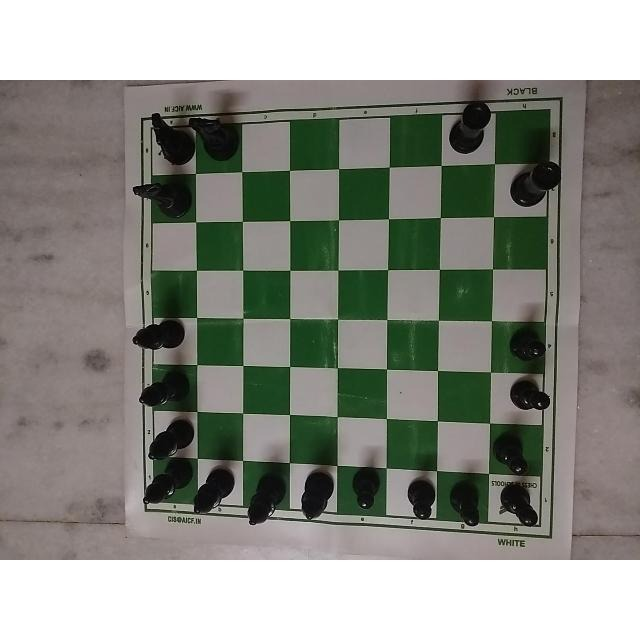black-bishop: (135, 457, 196, 513), (136, 412, 194, 468), (183, 463, 235, 523), (244, 464, 288, 532), (288, 472, 341, 528), (128, 316, 198, 357), (134, 371, 194, 413)
black-knight: (142, 104, 198, 168), (185, 107, 237, 163), (130, 175, 195, 214)
black-pawn: (492, 480, 543, 532), (504, 319, 556, 370), (507, 375, 560, 421), (491, 428, 537, 480), (450, 481, 494, 535), (341, 464, 387, 513), (402, 476, 441, 531)
black-rook: (448, 95, 496, 161), (509, 159, 569, 211)
